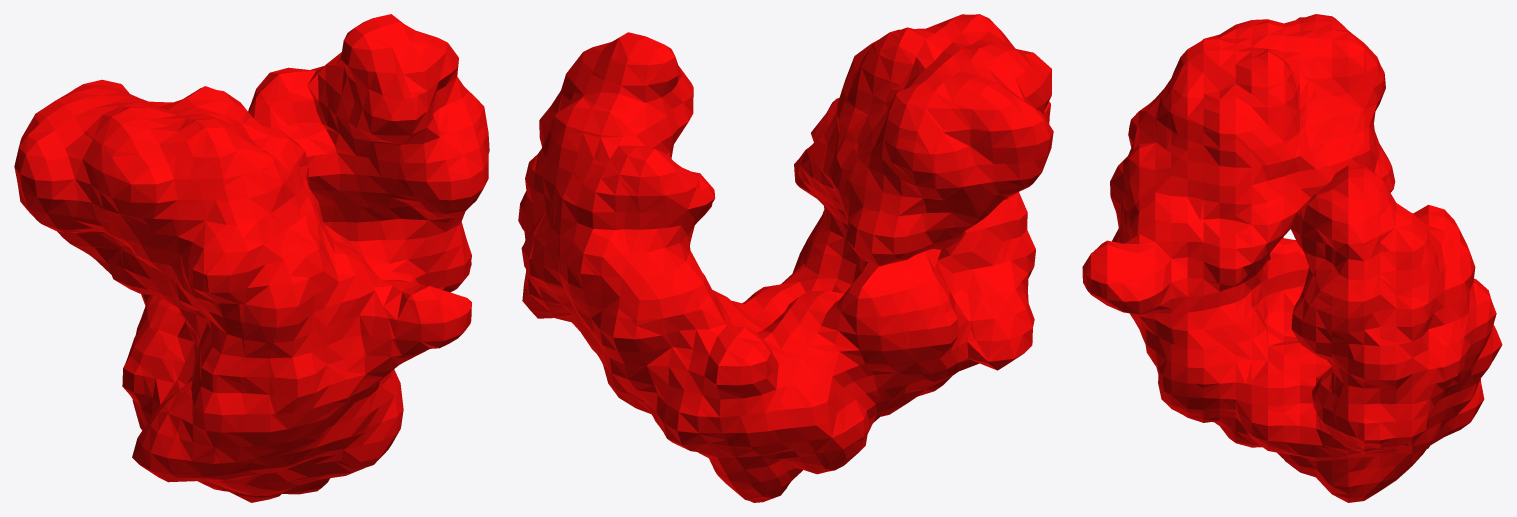
The model's file is rcsD_coarse.dae.
The picture shows the model from 3 angles, left to right: view 1: azimuth 30°, elevation 25°; view 2: azimuth 150°, elevation 25°; view 3: azimuth 270°, elevation 25°; orthographic projection. The views are drawn at different scales.
Visible parts, largest first — view 1: rcsD; view 2: rcsD; view 3: rcsD.
Part boxes in pixels (x1=…): rcsD: x1=14, y1=14, x2=489, y2=502; rcsD: x1=518, y1=14, x2=1053, y2=502; rcsD: x1=1082, y1=14, x2=1502, y2=502.
Size of the model in its own units: 102 by 93.76 by 88.11.
